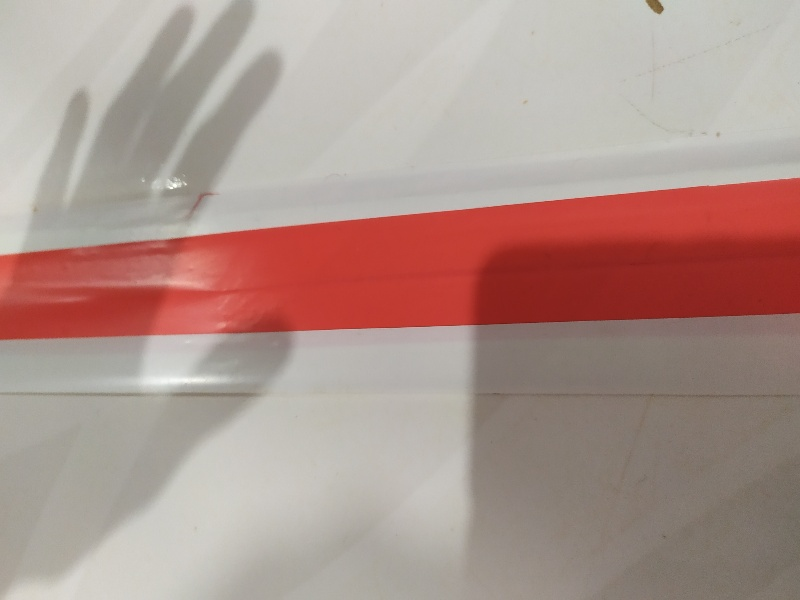faixa: (1, 208, 800, 394)
